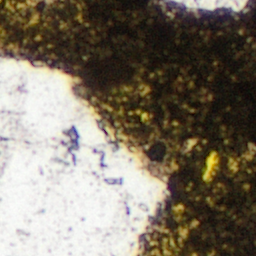cement_matrix: (0, 0, 255, 255), (65, 128, 78, 151), (206, 156, 217, 175)
cracks: (207, 157, 216, 174)
gravel_crushed_stones: (0, 53, 167, 255), (164, 0, 250, 12), (64, 127, 79, 152)
